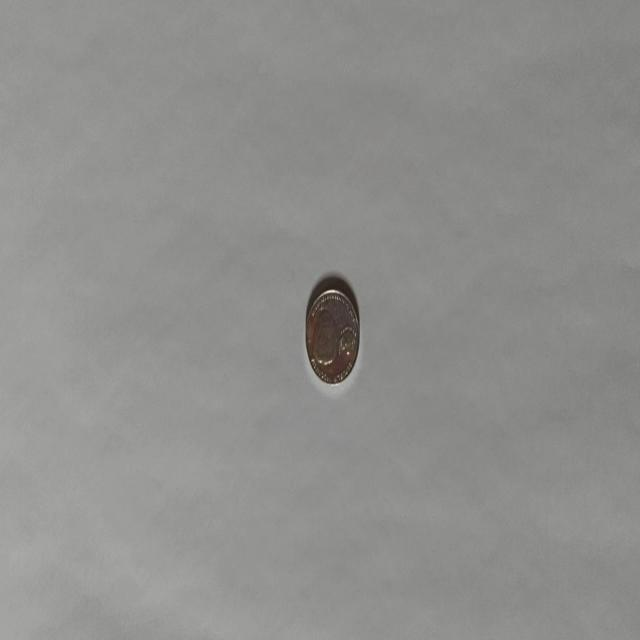seratus rupiah: (304, 286, 360, 386)
